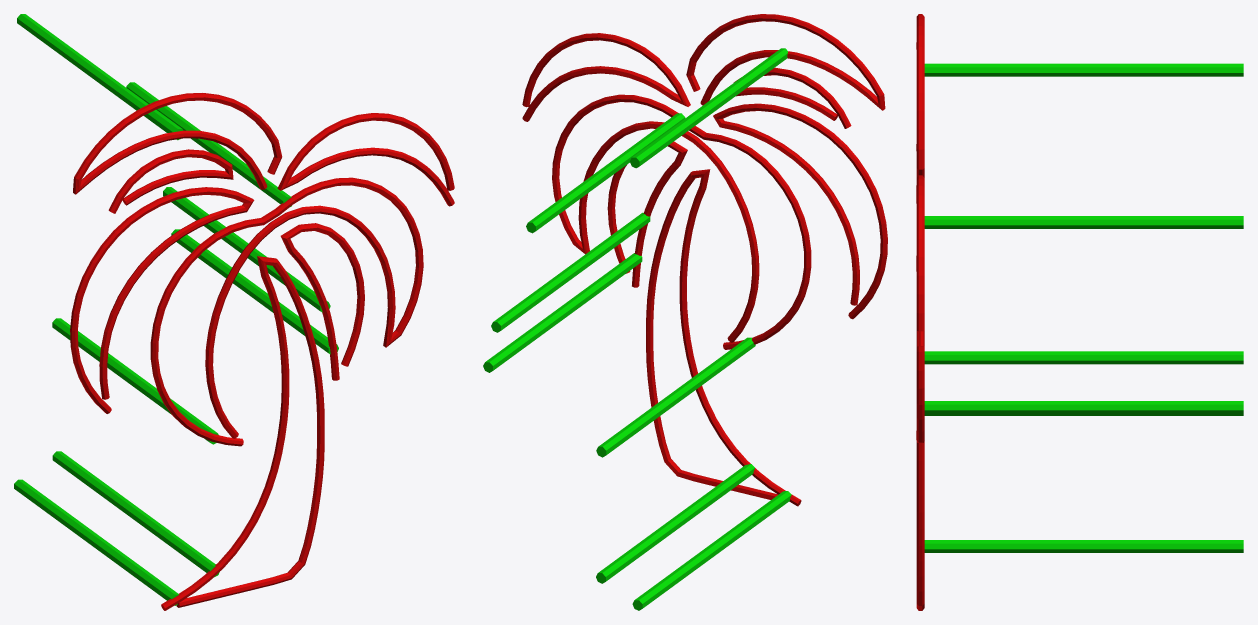
File: SM_Neon_Museum_Tree.fbx
3 renders of one model, left to right at view 1: azimuth 30°, elevation 25°; view 2: azimuth 150°, elevation 25°; view 3: azimuth 270°, elevation 25°, orthographic. The views are drawn at different scales.
Parts seen in each view (by area): view 1: polydoctor1; view 2: polydoctor1; view 3: polydoctor1.
Boxes of the visible parts, x1,y1,x2,y2 form: polydoctor1: (14,14,454,610); polydoctor1: (483,14,887,610); polydoctor1: (916,14,1243,610).
Bounding box in the file's own units: 0.5502 × 0.7024 × 0.3955.
